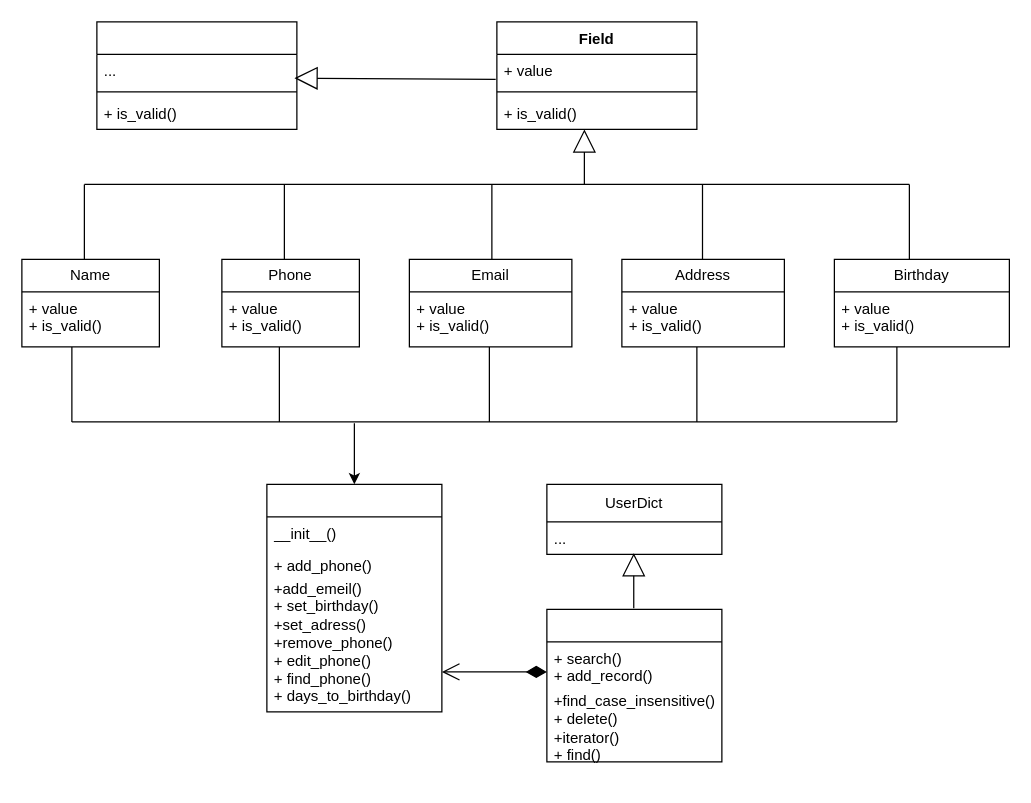
The diagram is 1031 pixels wide and 803 high, and some of its shapes have lost their labels. Here are the shapes that lost their labels. From the top down, the box of each, then its label:
(96, 21, 297, 129): FieldAbstract
(266, 483, 442, 712): Record
(546, 608, 722, 762): AddressBook
